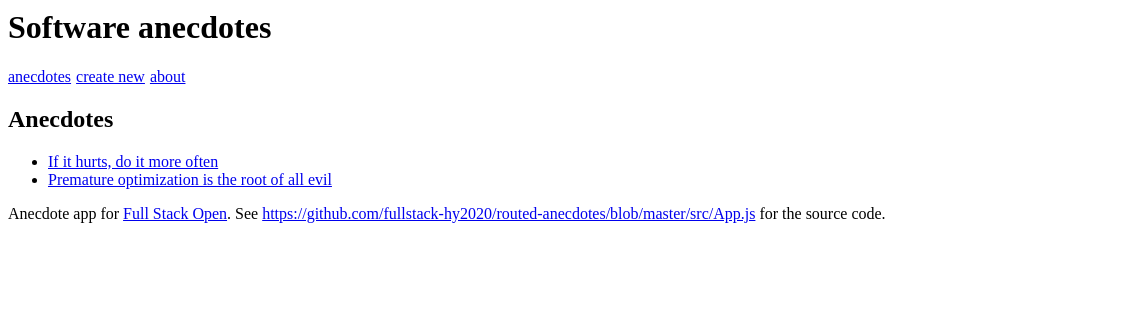
Test: Routed Anecdotes app › testing the React Router top menu › clicking on anecdotes from another menu item sends back to the home page
Step 1. Click the link "about" → (171, 77), box [150,68,191,85]
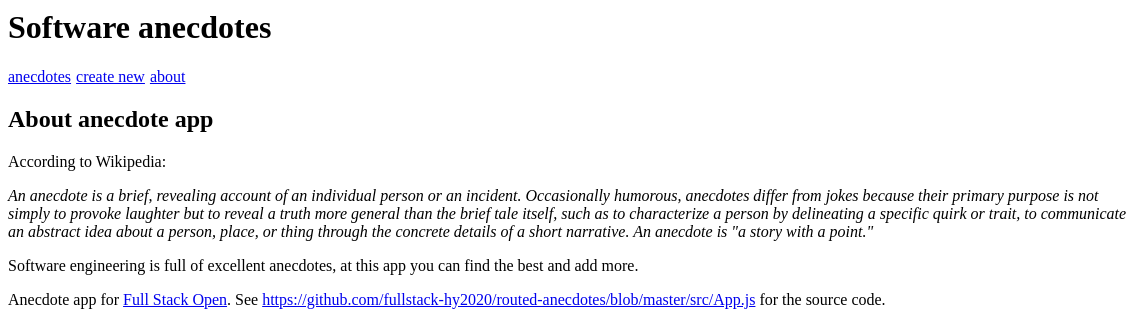
Expected: the heading "About anecdote app" is shown, [8,106,213,132]
Step 2. Click the link "anecdotes" → (42, 77), box [8,68,76,85]
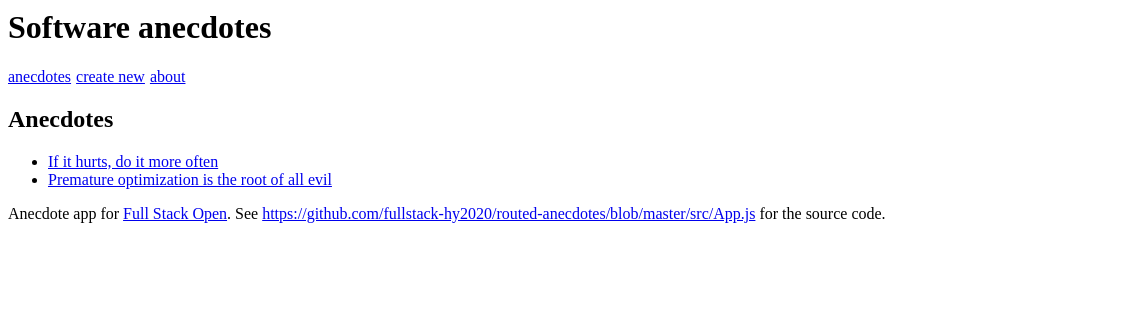
Expected: the heading "Anecdotes" is shown, [8,106,113,132]
Expected: the link "If it hurts, do it more often" is shown, [48,153,218,170]
Expected: the link "Premature optimization is the root of all evil" is shown, [48,171,332,188]
